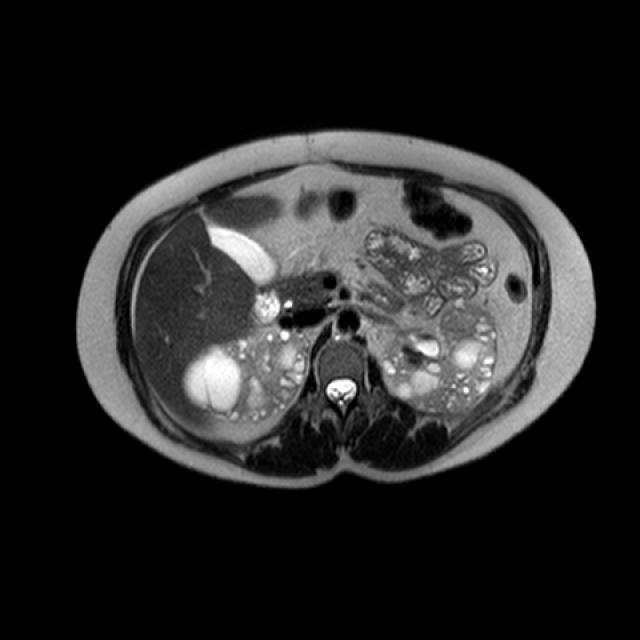sag: (185, 330, 309, 424)
sol: (381, 301, 503, 409)
